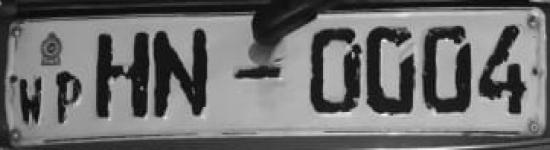-: (230, 61, 284, 84)
0: (417, 19, 479, 119), (364, 21, 419, 121), (308, 21, 365, 117)
4: (478, 22, 533, 122)
H: (87, 27, 151, 124)
N: (151, 26, 220, 130)
P: (49, 66, 90, 132)
W: (13, 72, 56, 133)
